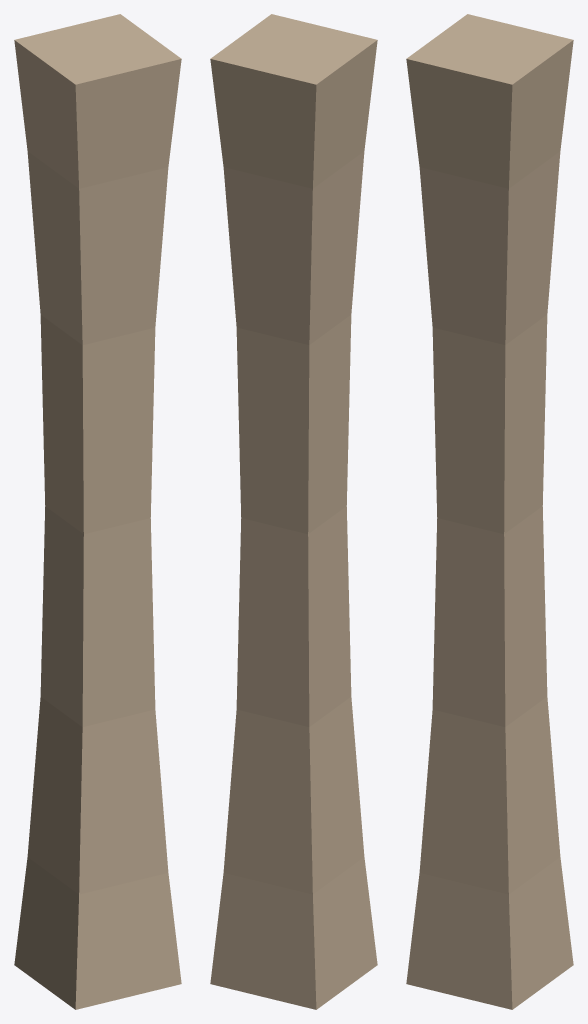
The model's file is corner.fbx.
3 renders of one model, left to right at view 1: azimuth 30°, elevation 25°; view 2: azimuth 150°, elevation 25°; view 3: azimuth 330°, elevation 25°, orthographic.
Visible parts, largest first — view 1: Cube.001; view 2: Cube.001; view 3: Cube.001.
Boxes of the visible parts, x1=… form: Cube.001: x1=14, y1=14, x2=181, y2=1009; Cube.001: x1=210, y1=14, x2=377, y2=1009; Cube.001: x1=406, y1=14, x2=573, y2=1009.
Bounding box in the file's own units: 0.6 × 0.6 × 5.
